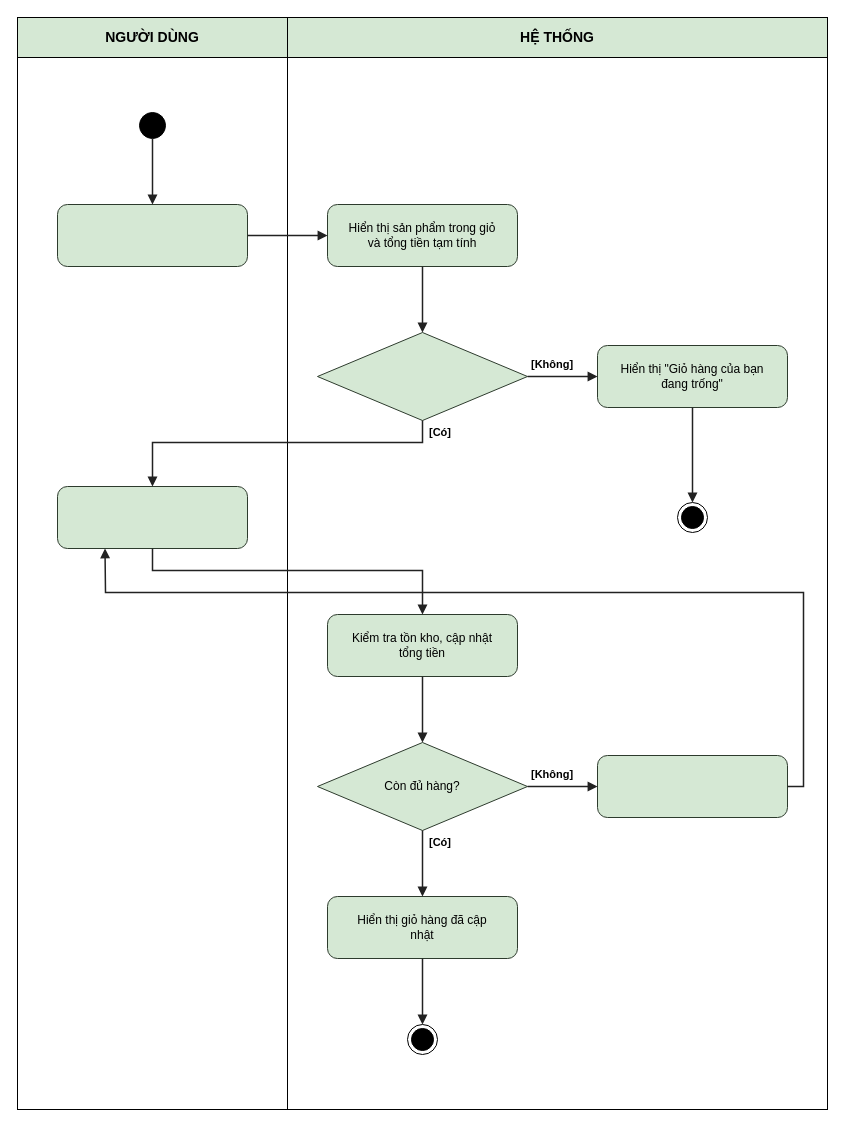
Some shapes in this 845 by 1127 pixel diagram are drawn without their labels. Here are the shapes that lost their labels. From the top down, the centre of each, then its label:
At pixel 152 235: "Click icon giỏ hàng".
At pixel 422 376: "Giỏ hàng có sản phẩm?".
At pixel 152 517: "Tăng, giảm số lượng hoặc xóa sản phẩm".
At pixel 692 786: "Thông báo, điều chỉnh số lượng".
